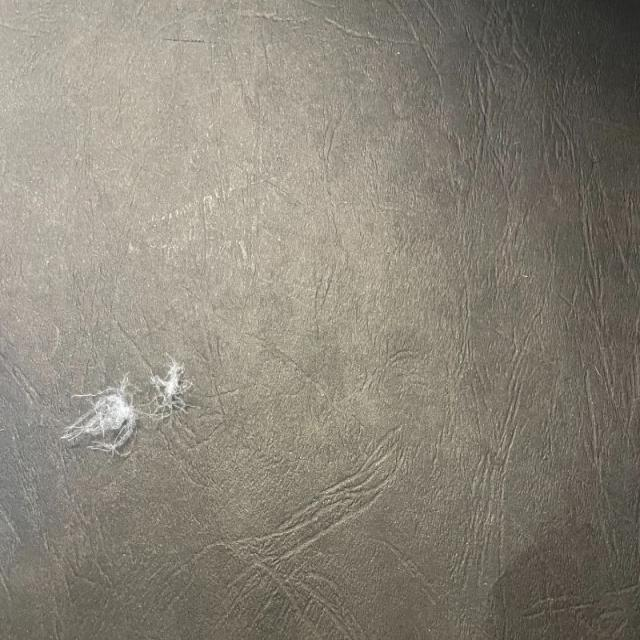feather: (54, 376, 136, 457), (149, 358, 183, 420)
